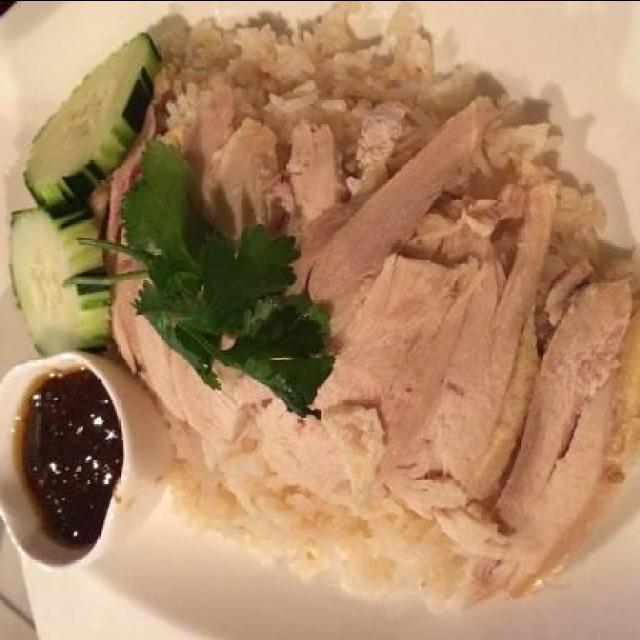Zucchini: (15, 7, 192, 350), (8, 202, 116, 364)
